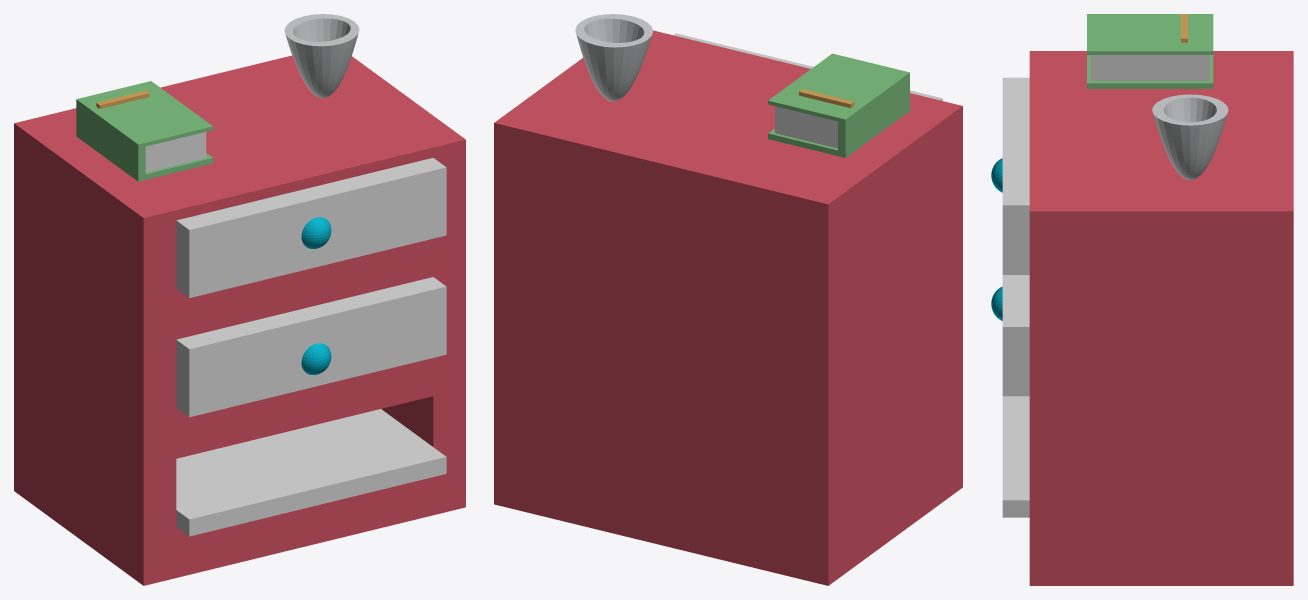
The model's file is Stunning Kasi.glb.
3 renders of one model, left to right at view 1: azimuth 30°, elevation 25°; view 2: azimuth 150°, elevation 25°; view 3: azimuth 270°, elevation 25°, orthographic. The views are drawn at different scales.
Visible parts, largest first — view 1: Mesh_Mesh_head_geo.001_lambert2SG.001; view 2: Mesh_Mesh_head_geo.001_lambert2SG.001; view 3: Mesh_Mesh_head_geo.001_lambert2SG.001.
Part boxes in pixels (left/top/right/bottom): Mesh_Mesh_head_geo.001_lambert2SG.001: left=14, top=14, right=465, bottom=585; Mesh_Mesh_head_geo.001_lambert2SG.001: left=494, top=14, right=962, bottom=585; Mesh_Mesh_head_geo.001_lambert2SG.001: left=991, top=14, right=1293, bottom=585.
Bounding box in the file's own units: 99 × 128 × 79.
